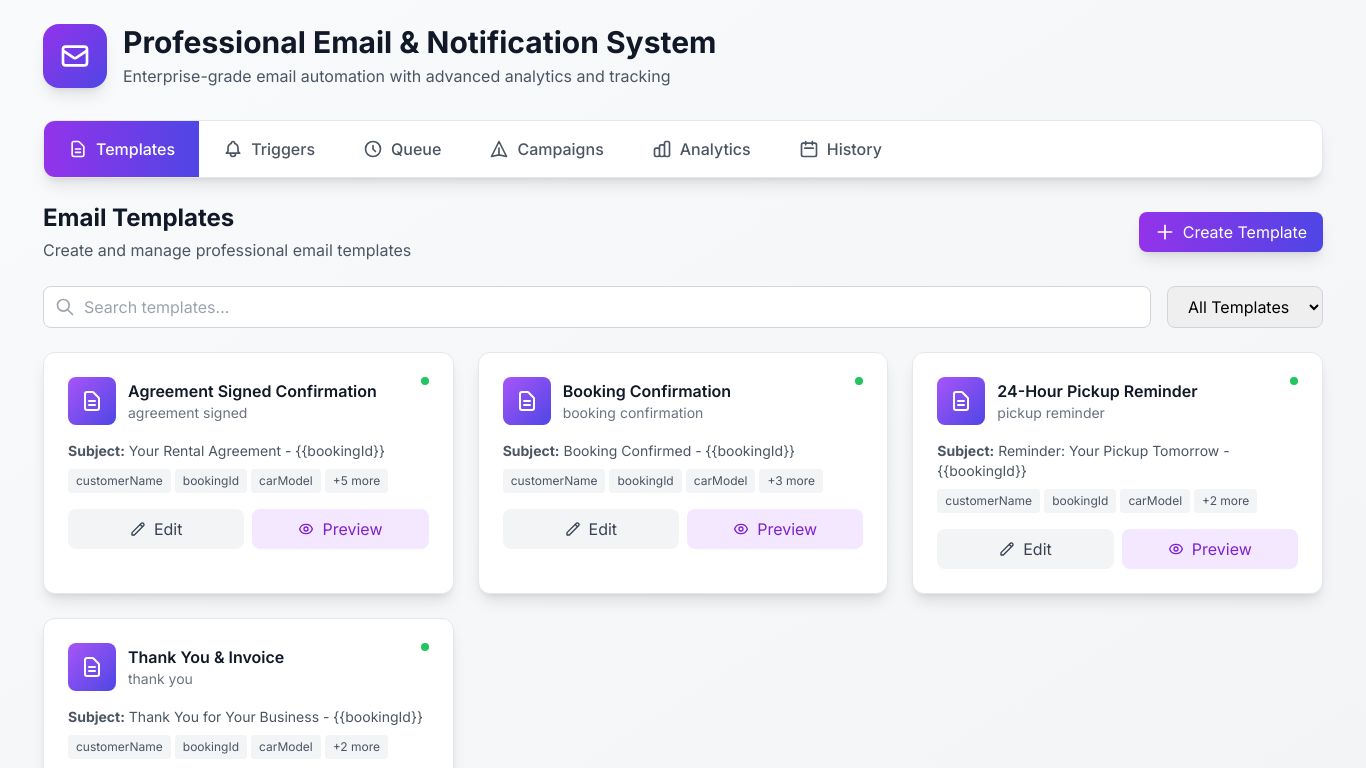
it: ProfessionalEmailNotificationSystem › Queue Tab › should show queued email jobs
The width and height of the screenshot is (1366, 768).
Click the button "Queue" at (402, 149), box left=339, top=121, right=465, bottom=177
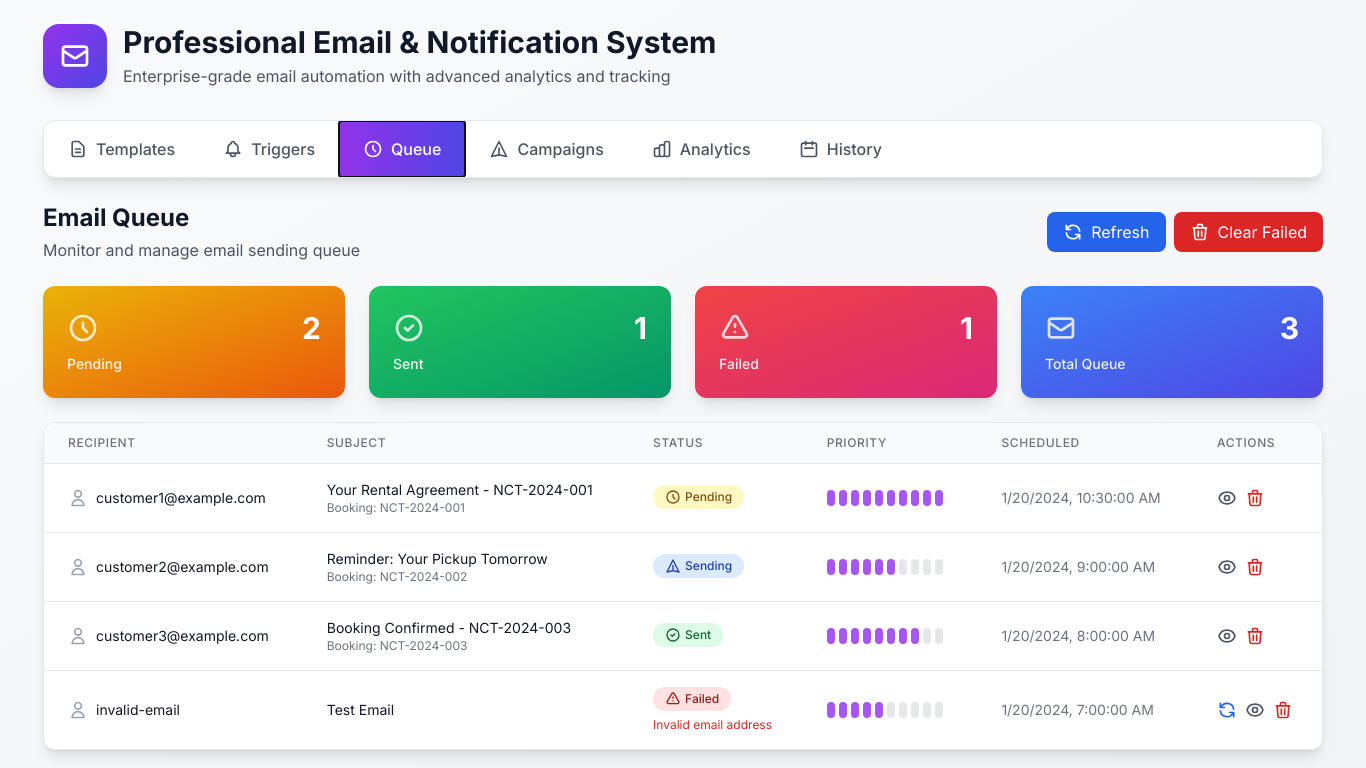
Expected: the text "customer1@example.com" is shown, left=96, top=488, right=266, bottom=508
Expected: the text "Your Rental Agreement - NCT-2024-001" is shown, left=327, top=480, right=605, bottom=500
